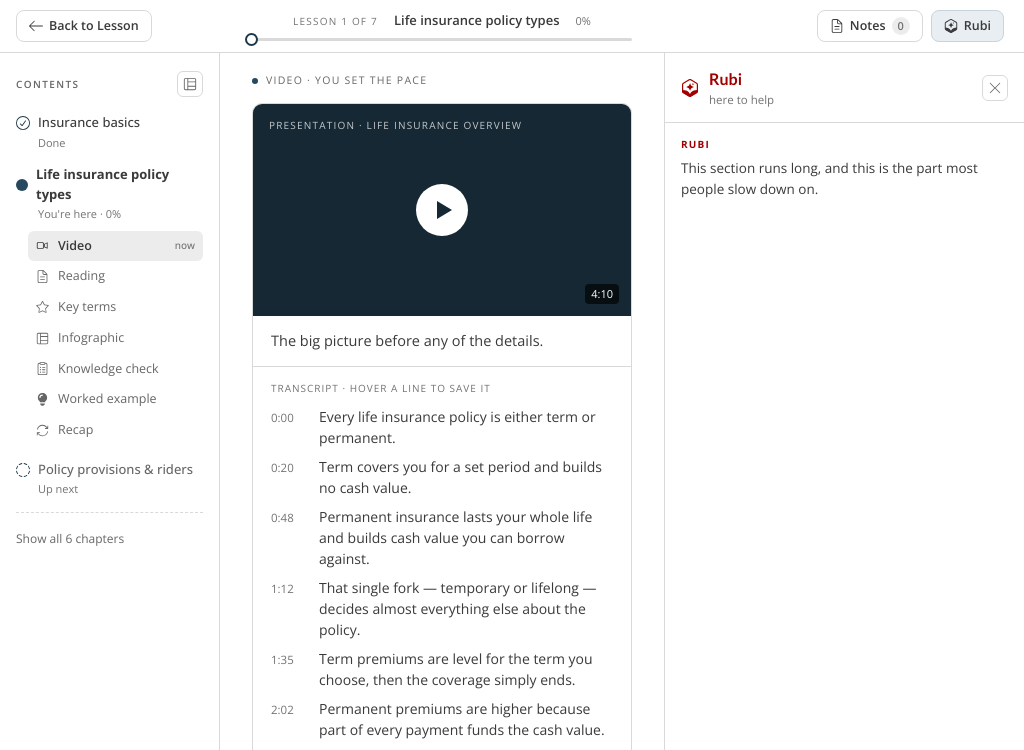
the Key terms beat › reveals nothing until you rate — the rating IS the flip
What coordinates should you click on to do the following:
click the button "Key terms"
I would click on:
 (116, 307)
Its box is [28, 292, 203, 323].
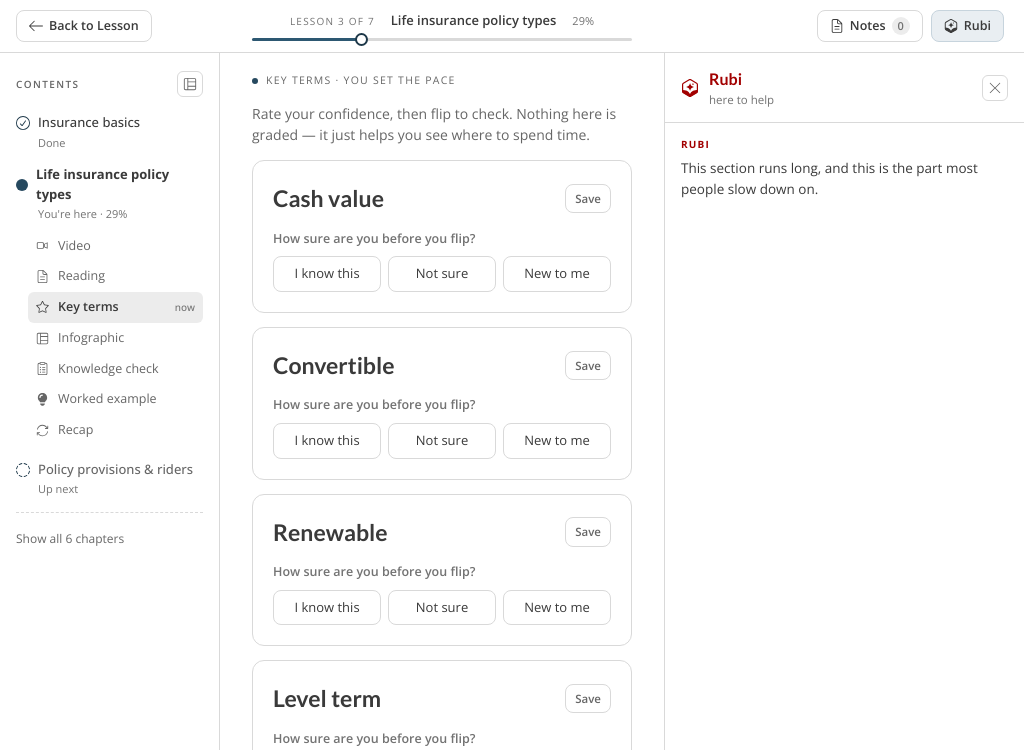
Expected: the text "Practice this with Rubi" is not shown
What coordinates should you click on to do the following:
click the button "Not sure" below "Cash value"
I would click on:
 (442, 274)
Its box is [388, 256, 496, 292].
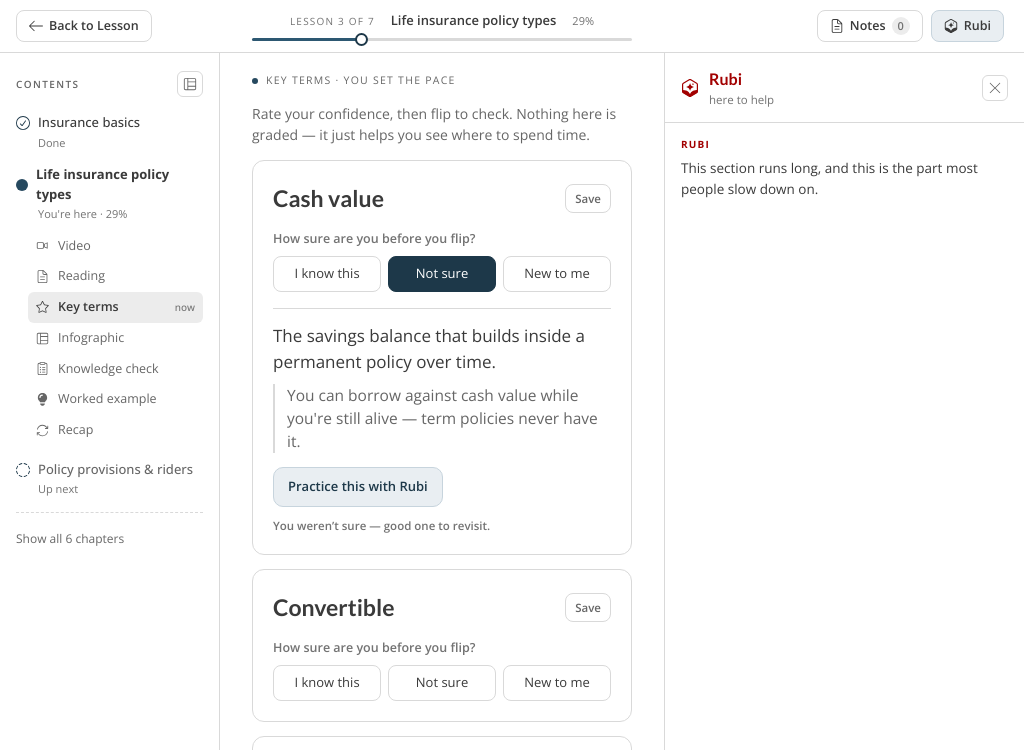
Result: the number of buttons "Practice this with Rubi" is 1 at [273, 467, 443, 507]
Result: the text "You weren’t sure — good one to revisit." is shown at [273, 517, 490, 534]
